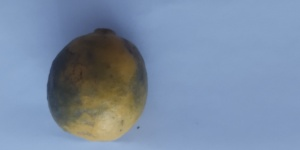BAD: (44, 25, 148, 140)
